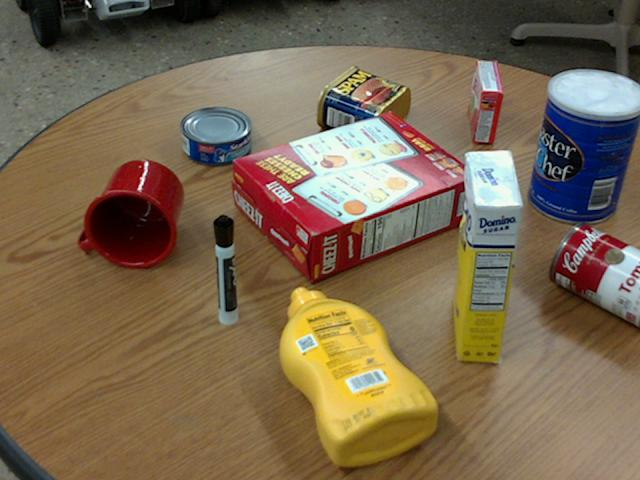cracker_box: (232, 112, 475, 282)
gelatin_box: (469, 60, 502, 142)
large_marker: (212, 214, 236, 324)
master_chef_can: (528, 70, 639, 223)
mug: (78, 159, 182, 267)
mustard_bottle: (279, 287, 437, 465)
potted_meat_can: (316, 65, 410, 141)
sugar_box: (455, 149, 521, 361)
tomato_soup_can: (549, 220, 639, 324)
tuna_fish_can: (180, 106, 250, 163)
